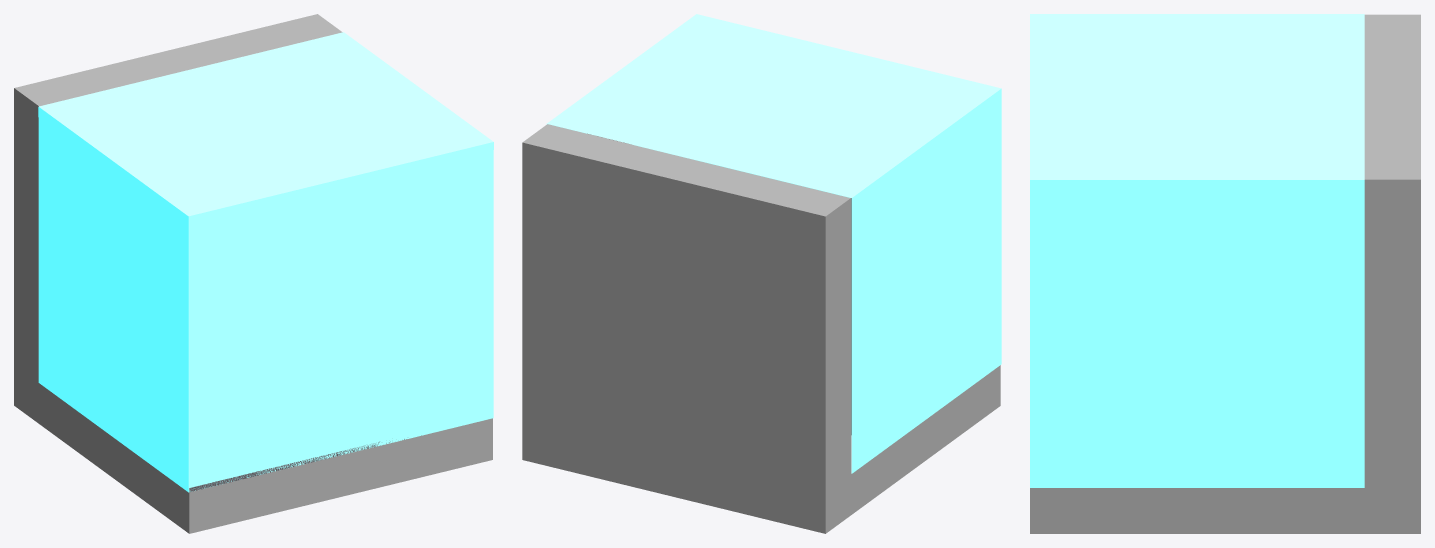
File: station1icon.fbx
The picture shows the model from 3 angles, left to right: view 1: azimuth 30°, elevation 25°; view 2: azimuth 150°, elevation 25°; view 3: azimuth 270°, elevation 25°; orthographic projection. The views are drawn at different scales.
Parts seen in each view (by area): view 1: Cube.004, Cube.001, Cube, Cube.002; view 2: Cube, Cube.004, Cube.001; view 3: Cube.004, Cube, Cube.001.
Boxes of the visible parts, <box> form: Cube.004: <box>38,32,493,492</box>; Cube.001: <box>39,383,492,533</box>; Cube: <box>14,14,342,423</box>; Cube.002: <box>189,439,404,491</box>; Cube: <box>522,124,850,533</box>; Cube.004: <box>546,14,1001,473</box>; Cube.001: <box>851,365,1000,514</box>; Cube.004: <box>1030,14,1364,487</box>; Cube: <box>1364,14,1420,533</box>; Cube.001: <box>1030,488,1364,533</box>.
Bounding box in the file's own units: 201 × 200 × 200.
